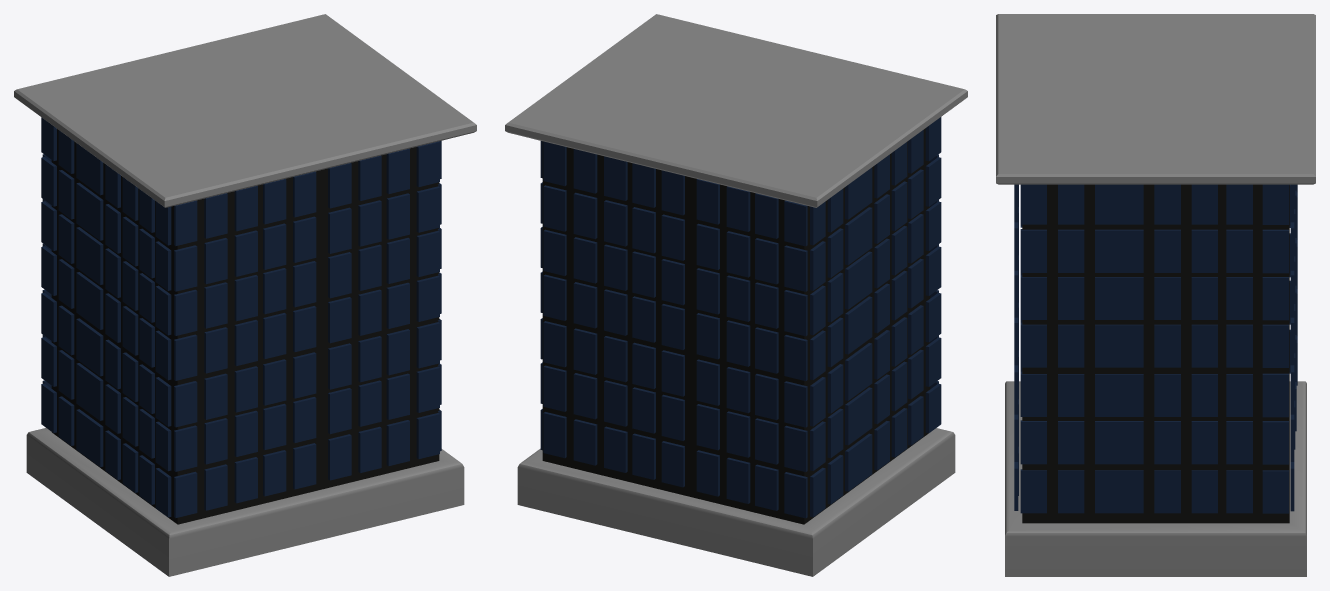
File: Building_Wide.fbx
3 views of the same model, side by side, from view 1: azimuth 30°, elevation 25°; view 2: azimuth 150°, elevation 25°; view 3: azimuth 270°, elevation 25° (orthographic). The views are drawn at different scales.
Parts seen in each view (by area): view 1: Building_Wide; view 2: Building_Wide; view 3: Building_Wide.
Part boxes in pixels (x1,y1,x2,y2): Building_Wide: (14,14,476,576); Building_Wide: (505,14,967,576); Building_Wide: (996,14,1315,576).
Bounding box in the file's own units: 7.75 × 9.08 × 6.47.
